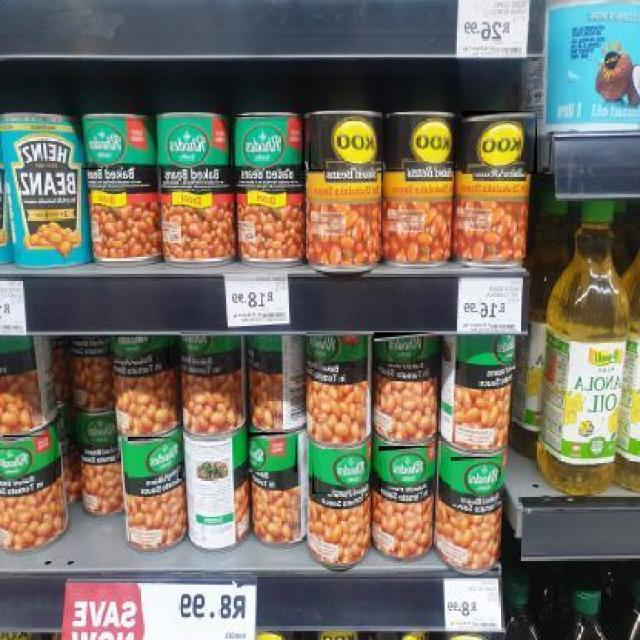Beans: (460, 111, 537, 175), (308, 115, 384, 173), (234, 116, 305, 173), (157, 116, 231, 170), (388, 114, 456, 172), (79, 120, 155, 171), (449, 457, 506, 506), (311, 450, 369, 496), (178, 332, 240, 374), (2, 435, 56, 483), (377, 446, 437, 489), (126, 437, 182, 480), (305, 333, 369, 369), (455, 335, 517, 371), (372, 332, 436, 366), (246, 432, 297, 474), (113, 336, 170, 365), (78, 417, 120, 449)
